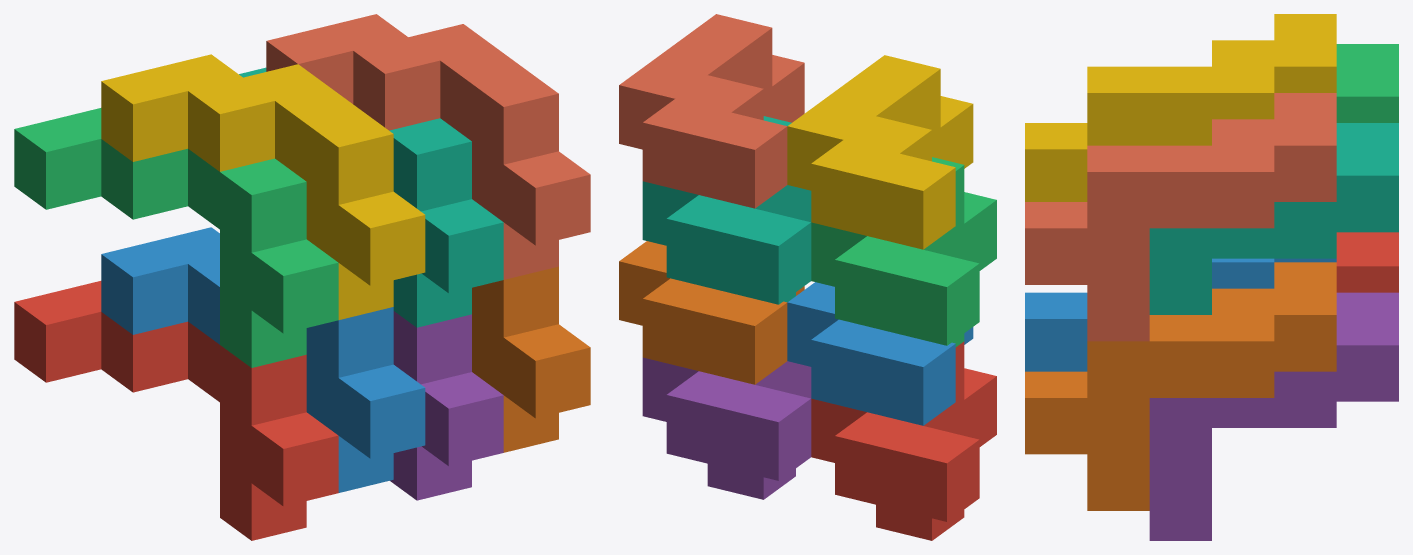
Rendered from tiling.obj.
The picture shows the model from 3 angles, left to right: view 1: azimuth 30°, elevation 25°; view 2: azimuth 150°, elevation 25°; view 3: azimuth 270°, elevation 25°; orthographic projection. The views are drawn at different scales.
Parts seen in each view (by area): view 1: copy_1_domain_4, copy_1_domain_8, copy_1_domain_3, copy_1_domain_1, copy_1_domain_2, copy_1_domain_7, copy_1_domain_6, copy_1_domain_5; view 2: copy_1_domain_4, copy_1_domain_8, copy_1_domain_1, copy_1_domain_3, copy_1_domain_5, copy_1_domain_7, copy_1_domain_2, copy_1_domain_6; view 3: copy_1_domain_8, copy_1_domain_6, copy_1_domain_4, copy_1_domain_5, copy_1_domain_7, copy_1_domain_2, copy_1_domain_3, copy_1_domain_1.
Boxes of the visible parts, <box> form: copy_1_domain_4: <box>101,54,425,319</box>; copy_1_domain_8: <box>266,14,590,279</box>; copy_1_domain_3: <box>14,108,338,367</box>; copy_1_domain_1: <box>14,281,338,540</box>; copy_1_domain_2: <box>101,227,425,492</box>; copy_1_domain_7: <box>239,67,503,327</box>; copy_1_domain_6: <box>472,266,590,452</box>; copy_1_domain_5: <box>390,311,503,500</box>; copy_1_domain_4: <box>787,55,973,249</box>; copy_1_domain_8: <box>619,14,804,208</box>; copy_1_domain_1: <box>811,341,996,540</box>; copy_1_domain_3: <box>811,157,996,346</box>; copy_1_domain_5: <box>642,357,811,499</box>; copy_1_domain_7: <box>642,116,811,304</box>; copy_1_domain_2: <box>787,282,973,425</box>; copy_1_domain_6: <box>619,241,804,384</box>; copy_1_domain_8: <box>1025,93,1336,341</box>; copy_1_domain_6: <box>1025,262,1336,510</box>; copy_1_domain_4: <box>1025,14,1336,201</box>; copy_1_domain_5: <box>1149,292,1398,540</box>; copy_1_domain_7: <box>1149,123,1398,314</box>; copy_1_domain_2: <box>1025,258,1336,371</box>; copy_1_domain_3: <box>1336,44,1398,122</box>; copy_1_domain_1: <box>1336,232,1398,292</box>.
Bounding box in the file's own units: 7 × 7 × 6.
